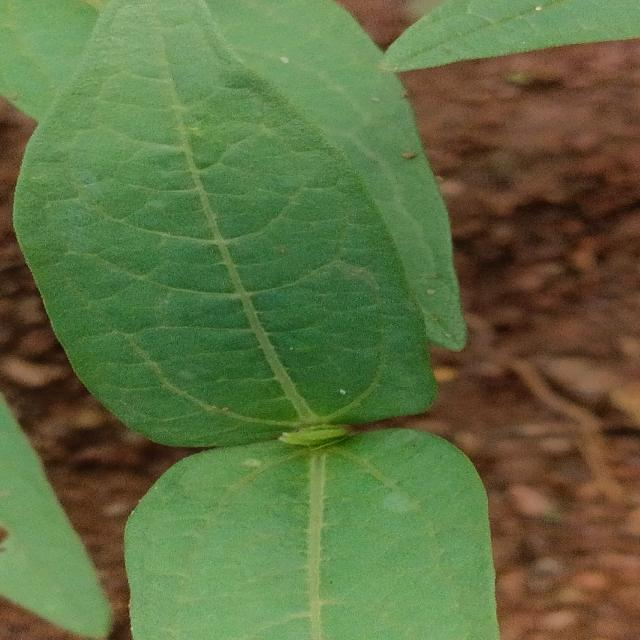Black gram_healthy: (4, 0, 452, 441), (124, 429, 508, 640)
